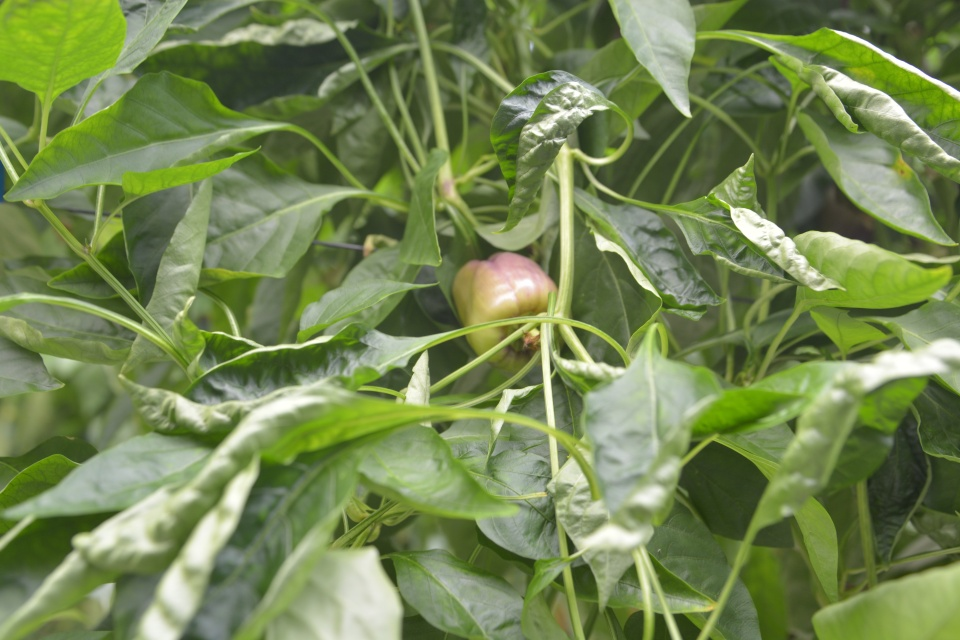fruit: (448, 249, 573, 379)
pedicle: (504, 313, 542, 349)
